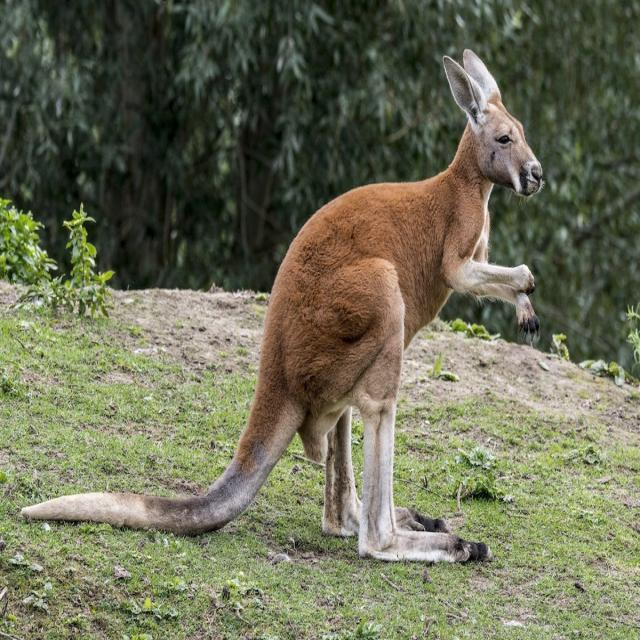kangaroo: (22, 49, 542, 562)
